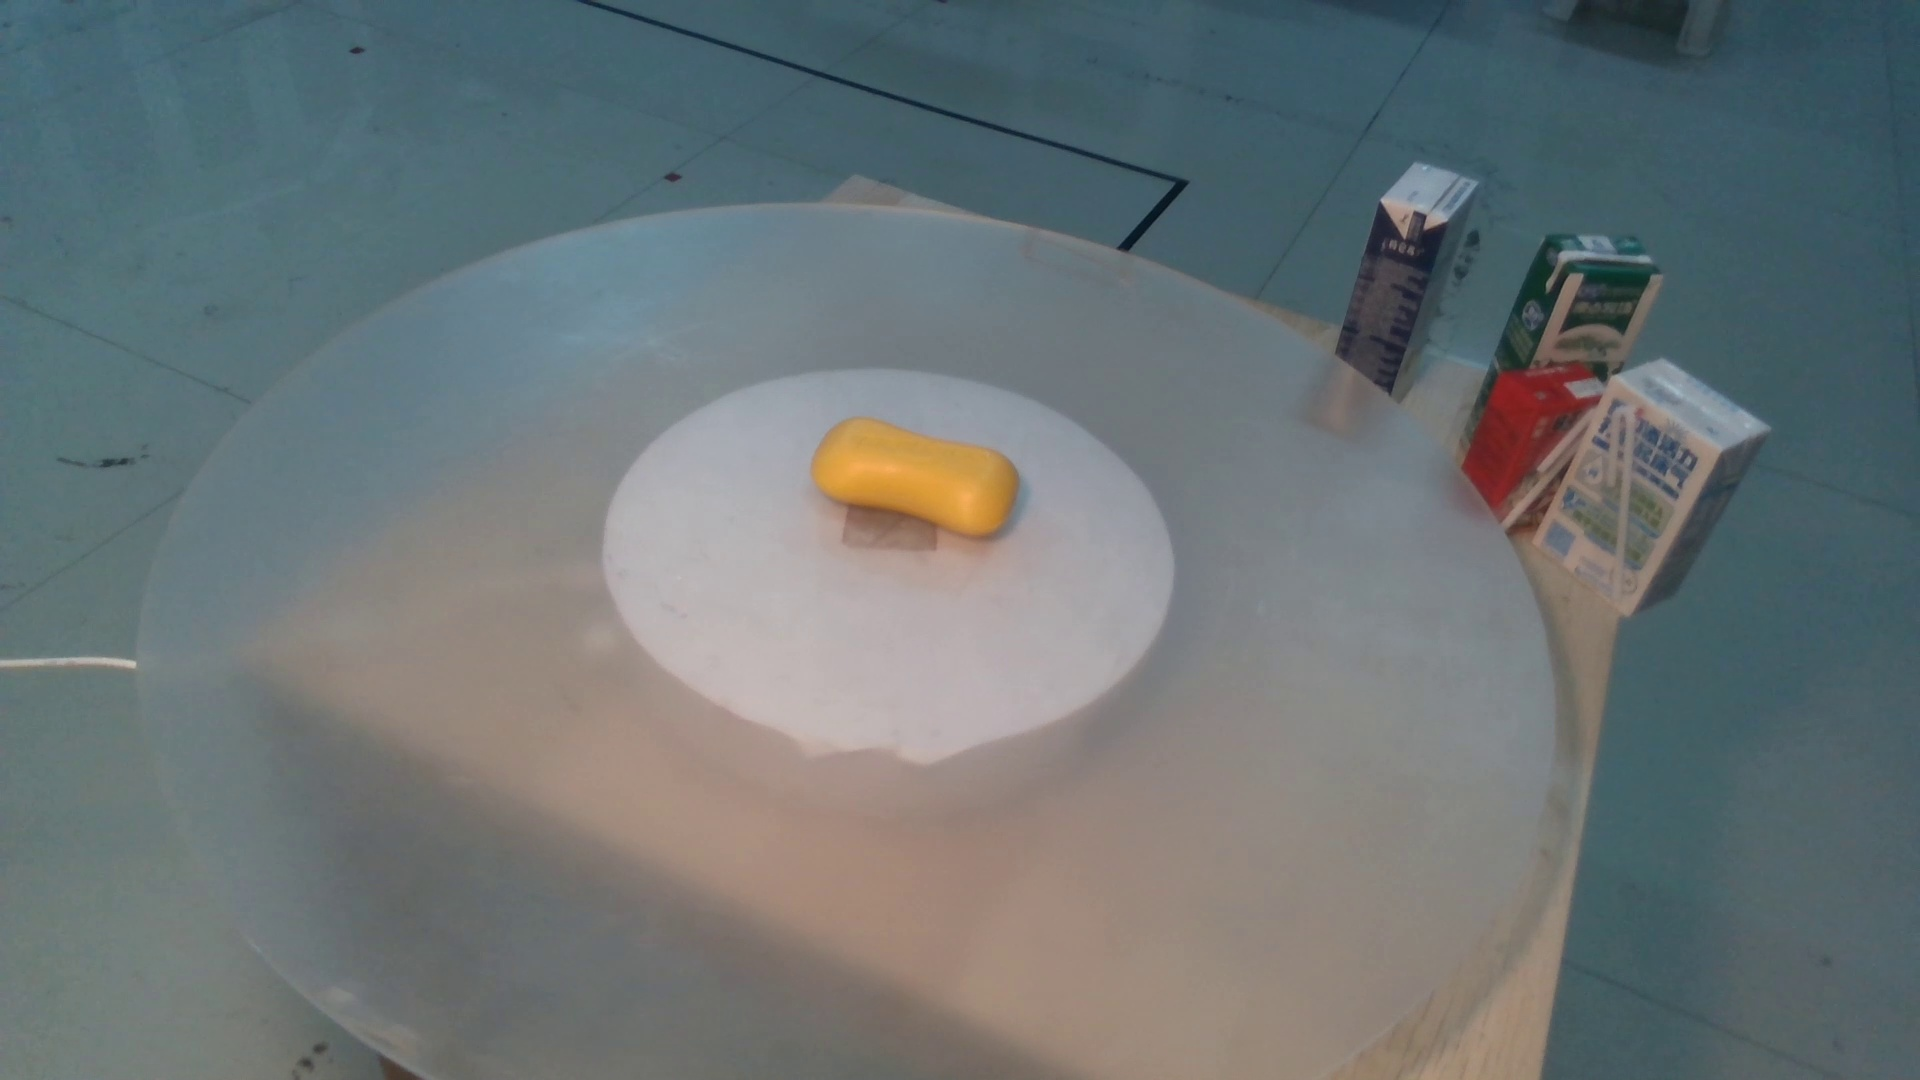CA003_1: (814, 407, 1030, 555)
